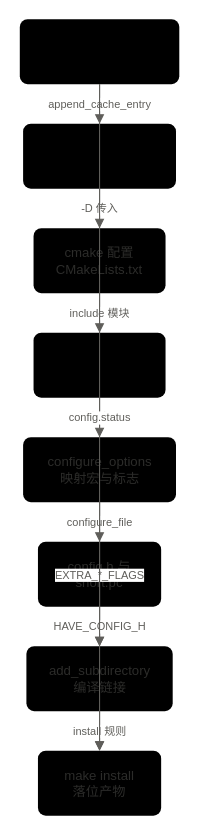
The diagram is 198 pixels wide and 835 high, and some of its shapes have lost their labels. Each missing label, with the box of its shape:
-D 缓存项 CMakeCacheEntries: (22, 123, 176, 189)
configure_cmake.sh 解析选项: (19, 18, 179, 84)
create_options 声明 option: (32, 332, 166, 398)
